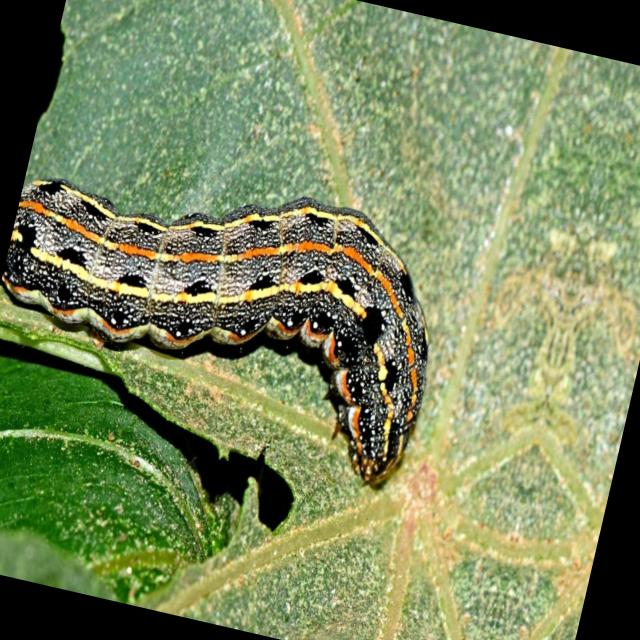Armyworm: (1, 110, 482, 513)
